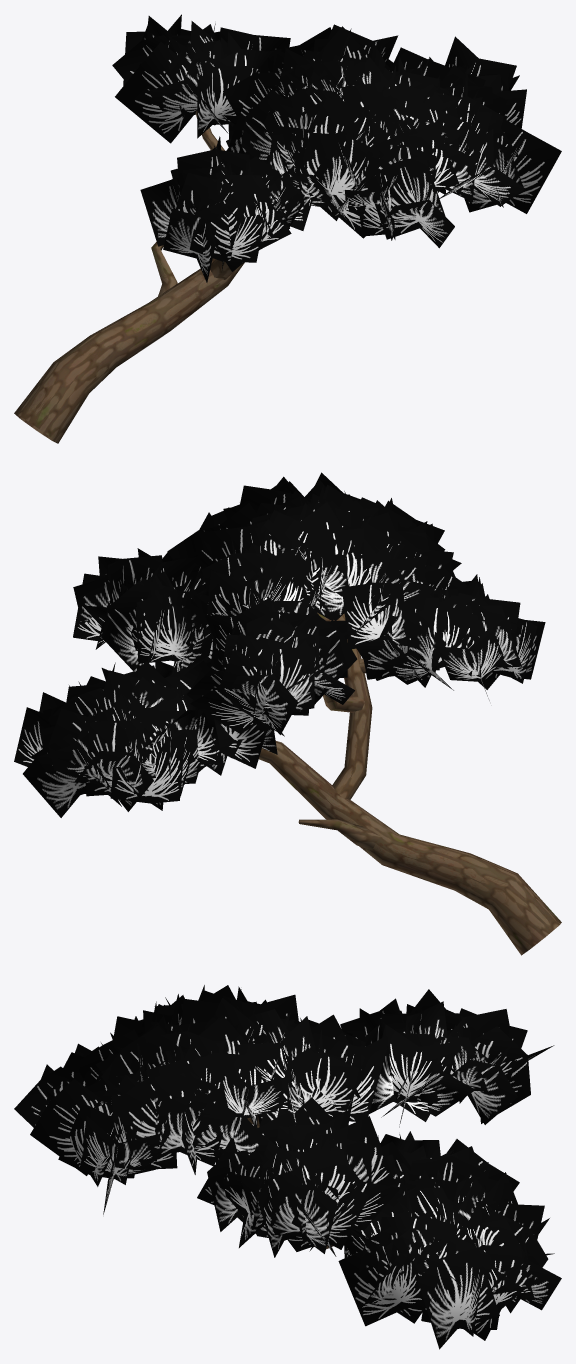
File: P_ChinaPineC02.obj
The picture shows the model from 3 angles, top to bottom: view 1: azimuth 30°, elevation 25°; view 2: azimuth 150°, elevation 25°; view 3: azimuth 270°, elevation 25°; orthographic projection. The views are drawn at different scales.
Bounding box in the file's own units: 12.21 × 8.64 × 11.17.
